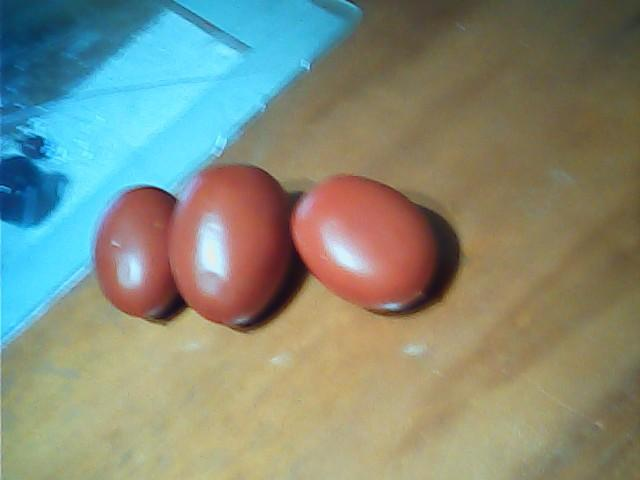maduro: (169, 164, 292, 328), (289, 176, 438, 311), (95, 186, 181, 315)
